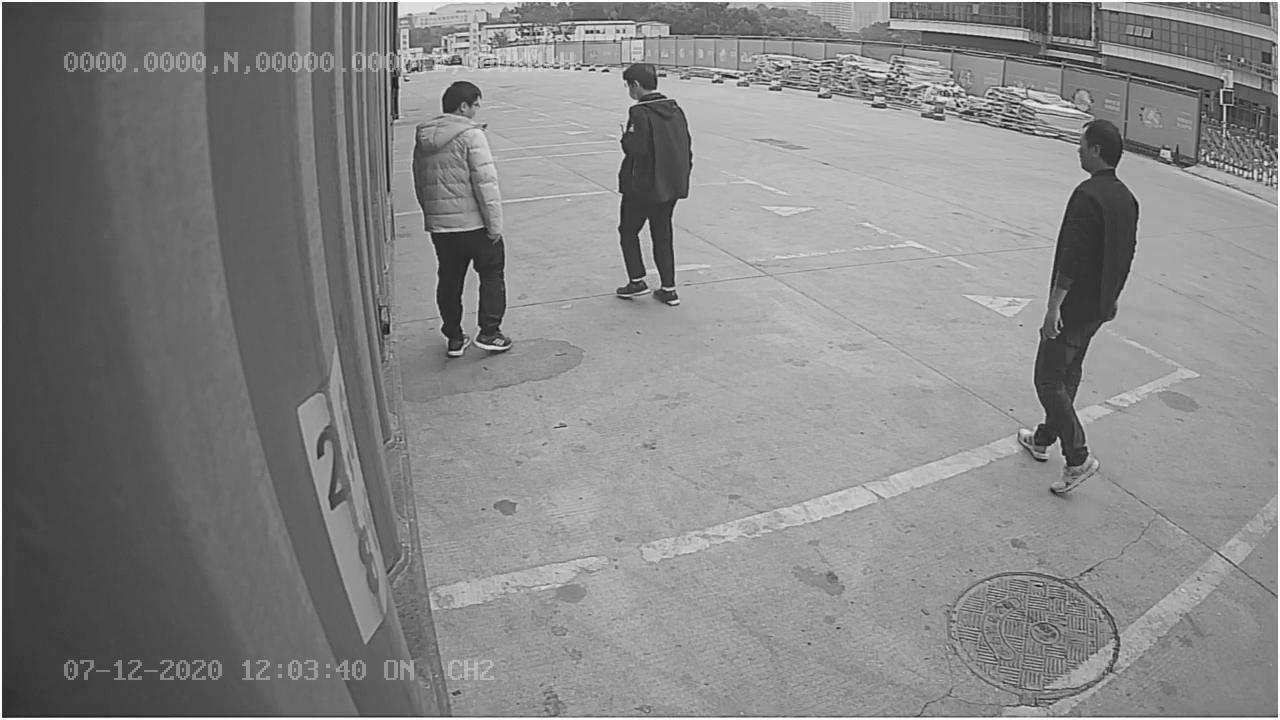person: (1010, 107, 1133, 497), (413, 78, 511, 365), (597, 53, 696, 306)
